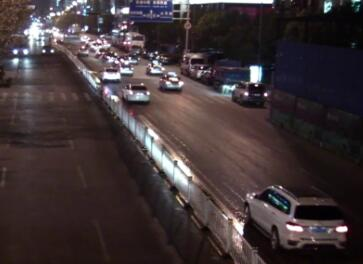bus: (123, 29, 144, 50)
car: (241, 181, 349, 253), (229, 78, 268, 106), (119, 80, 153, 106), (181, 50, 203, 73), (158, 72, 182, 91), (10, 35, 31, 56), (99, 64, 122, 83), (117, 56, 136, 78), (191, 61, 212, 80), (144, 60, 164, 74), (40, 41, 56, 55), (77, 43, 91, 56)
